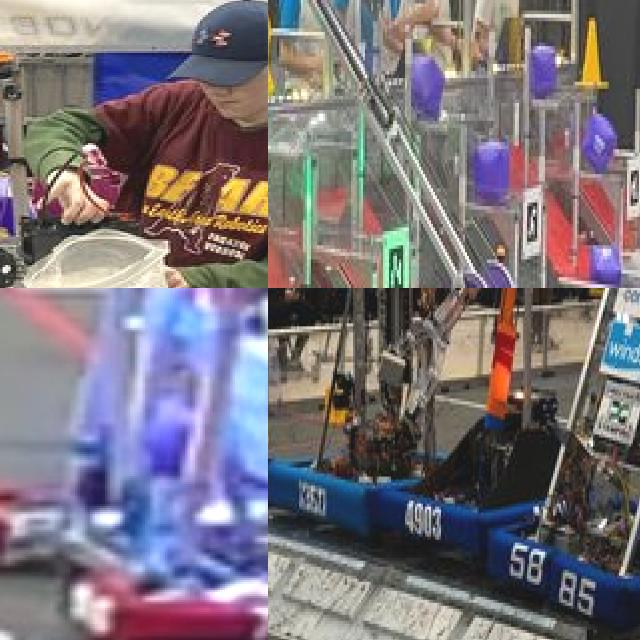FRC-Robots: (0, 288, 268, 640), (268, 0, 584, 288), (0, 7, 268, 288), (505, 288, 640, 619), (268, 288, 449, 528), (384, 288, 516, 601)
